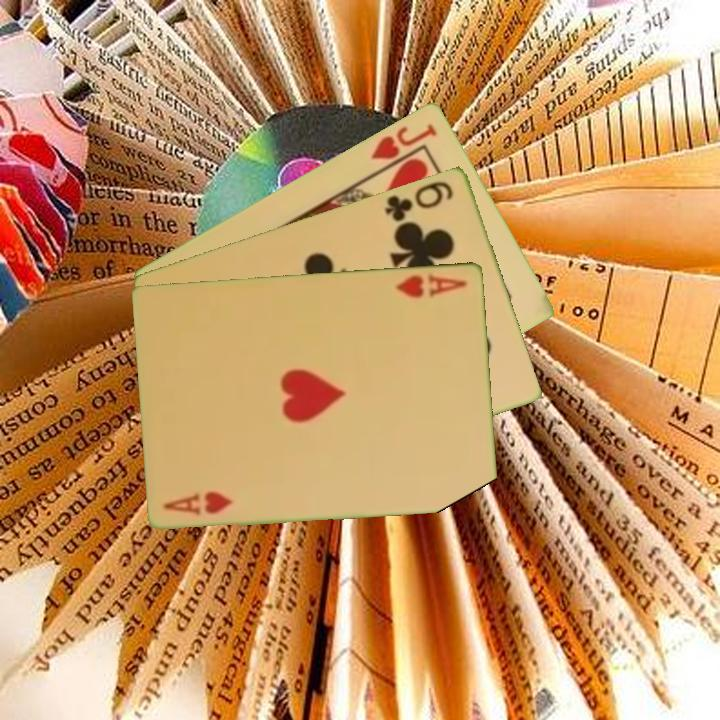6c: (381, 177, 457, 224)
Ah: (393, 269, 470, 300), (160, 489, 237, 519)
Jh: (367, 119, 440, 162)
